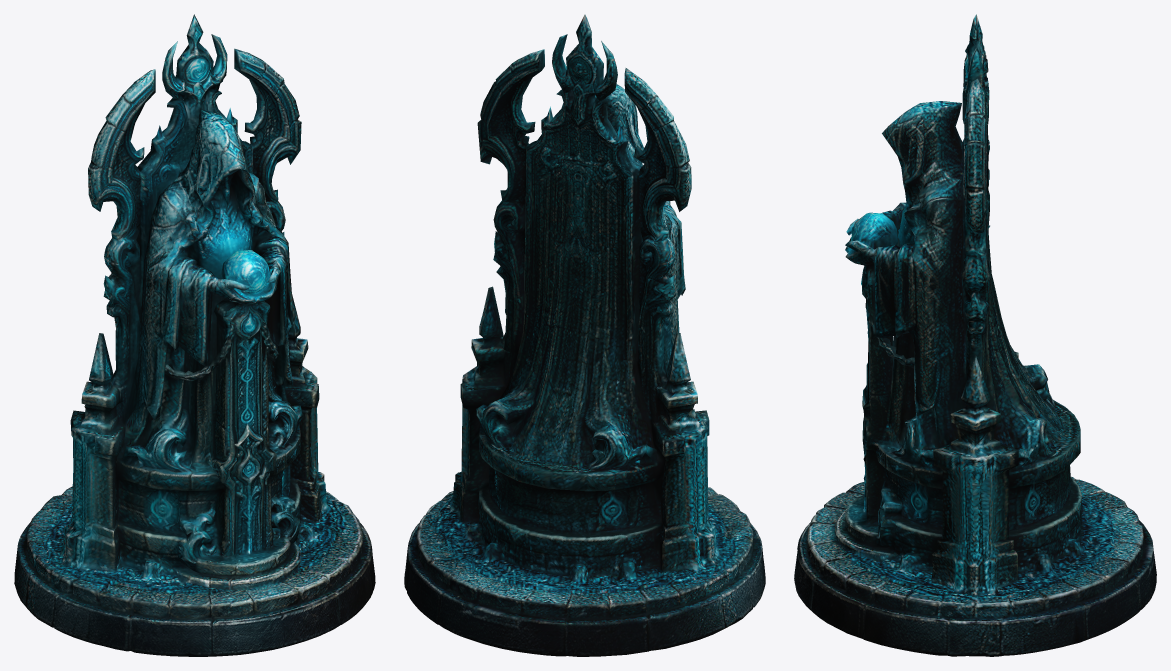
The model's file is fantasy statue 3d model.glb.
3 renders of one model, left to right at view 1: azimuth 30°, elevation 25°; view 2: azimuth 150°, elevation 25°; view 3: azimuth 270°, elevation 25°, orthographic.
Parts seen in each view (by area): view 1: tripo_node_a661b9bd-46ef-4c58-a87f-8d2ba8439446; view 2: tripo_node_a661b9bd-46ef-4c58-a87f-8d2ba8439446; view 3: tripo_node_a661b9bd-46ef-4c58-a87f-8d2ba8439446.
Part boxes in pixels (<box>): tripo_node_a661b9bd-46ef-4c58-a87f-8d2ba8439446: <box>14,14,375,656</box>; tripo_node_a661b9bd-46ef-4c58-a87f-8d2ba8439446: <box>404,14,765,656</box>; tripo_node_a661b9bd-46ef-4c58-a87f-8d2ba8439446: <box>794,14,1156,656</box>.
Bounding box in the file's own units: 0.5822 × 1 × 0.58.
1 material, 1 textured.
